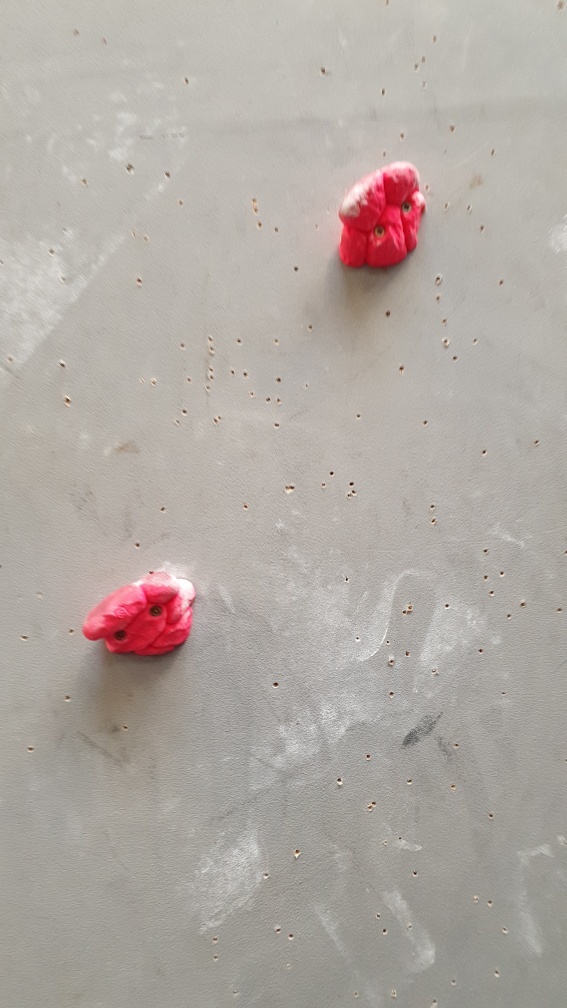Jug: (330, 156, 430, 274), (81, 568, 199, 663)
